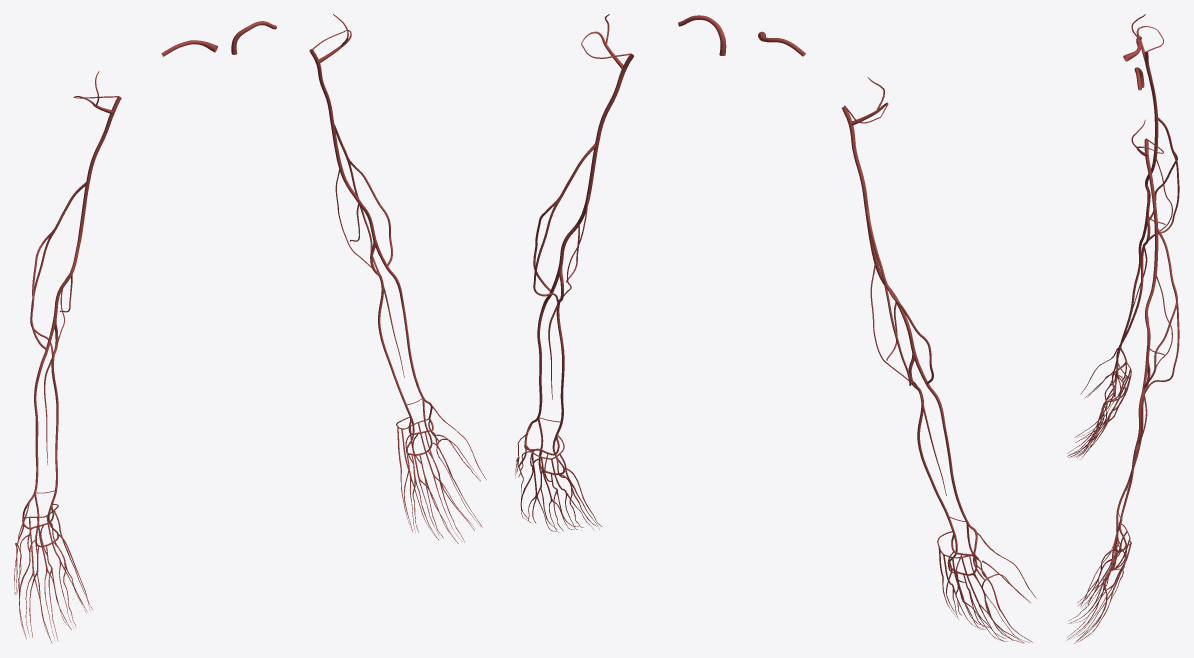
Rendered from arterial-upper-limb-mobile.glb.
3 views of the same model, side by side, from view 1: azimuth 30°, elevation 25°; view 2: azimuth 150°, elevation 25°; view 3: azimuth 270°, elevation 25° (orthographic). The views are drawn at different scales.
Visible parts, largest first — view 1: za.proper-palmar-digital-arteries-r, za.brachial-artery-r, za.proper-palmar-digital-arteries-l, za.brachial-artery-l, za.dorsal-digital-arteries-of-hand-l, za.dorsal-digital-arteries-of-hand-r, za.radial-artery-r; view 2: za.brachial-artery-l, za.brachial-artery-r, za.proper-palmar-digital-arteries-r, za.radial-artery-r; view 3: za.brachial-artery-l, za.proper-palmar-digital-arteries-l, za.brachial-artery-r, za.radial-artery-l, za.proper-palmar-digital-arteries-r, za.dorsal-digital-arteries-of-hand-l, za.ulnar-artery-r, za.radial-artery-r, za.ulnar-artery-l, za.dorsal-digital-arteries-of-hand-r, za.radial-collateral-artery-l, za.dorsal-metacarpal-arteries-r (+1 smaller).
Part boxes in pixels (x1,y1,x2,y2): za.proper-palmar-digital-arteries-r: (15,503,92,643); za.brachial-artery-r: (54,96,121,316); za.proper-palmar-digital-arteries-l: (403,405,486,543); za.brachial-artery-l: (309,49,375,239); za.dorsal-digital-arteries-of-hand-l: (400,438,480,540); za.dorsal-digital-arteries-of-hand-r: (14,543,90,640); za.radial-artery-r: (22,316,56,518); za.brachial-artery-l: (559,54,633,265); za.brachial-artery-r: (842,106,914,350); za.proper-palmar-digital-arteries-r: (946,532,1036,642); za.radial-artery-r: (913,350,977,554); za.brachial-artery-l: (1144,139,1158,357); za.proper-palmar-digital-arteries-l: (1066,529,1119,643); za.brachial-artery-r: (1144,52,1158,213); za.radial-artery-l: (1119,357,1148,545); za.proper-palmar-digital-arteries-r: (1067,347,1118,458); za.dorsal-digital-arteries-of-hand-l: (1070,561,1123,642); za.ulnar-artery-r: (1116,213,1150,362); za.radial-artery-r: (1119,213,1147,362); za.ulnar-artery-l: (1116,357,1150,523); za.dorsal-digital-arteries-of-hand-r: (1069,374,1123,459); za.radial-collateral-artery-l: (1143,280,1177,388); za.dorsal-metacarpal-arteries-r: (1110,363,1131,414).
Bounding box in the file's own units: 0.6637 × 0.72 × 0.1493.
